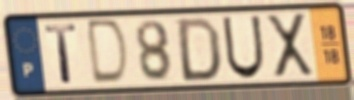8: (133, 19, 173, 83)
D: (86, 17, 132, 88), (176, 15, 222, 84)
T: (42, 22, 80, 86)
U: (220, 13, 266, 81)
X: (263, 11, 316, 81)
